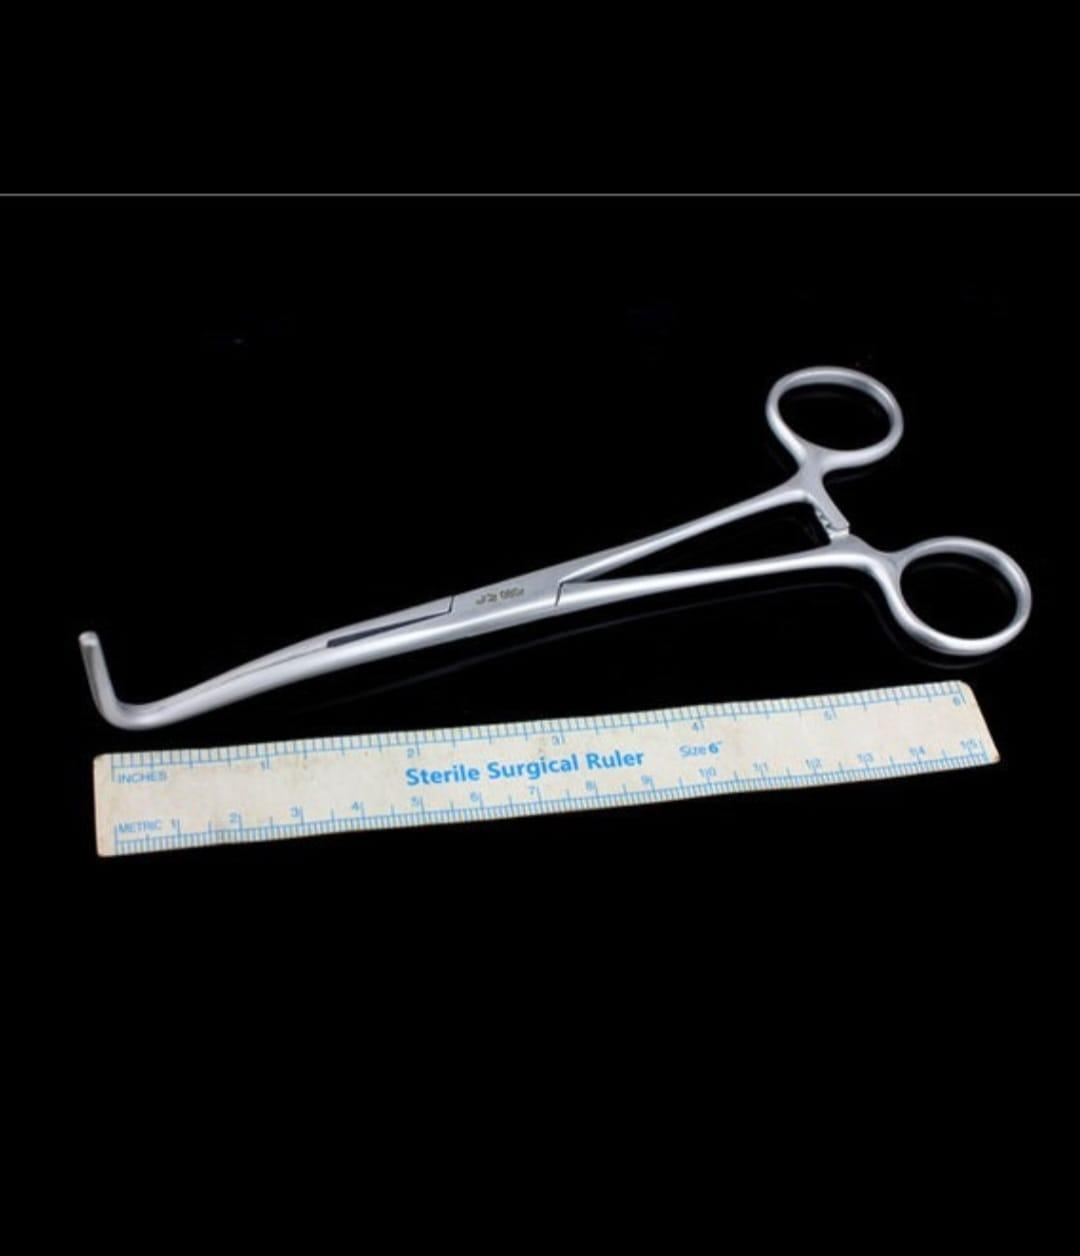Rectangle Cholecystectomy Forceps: (64, 348, 1048, 736)
